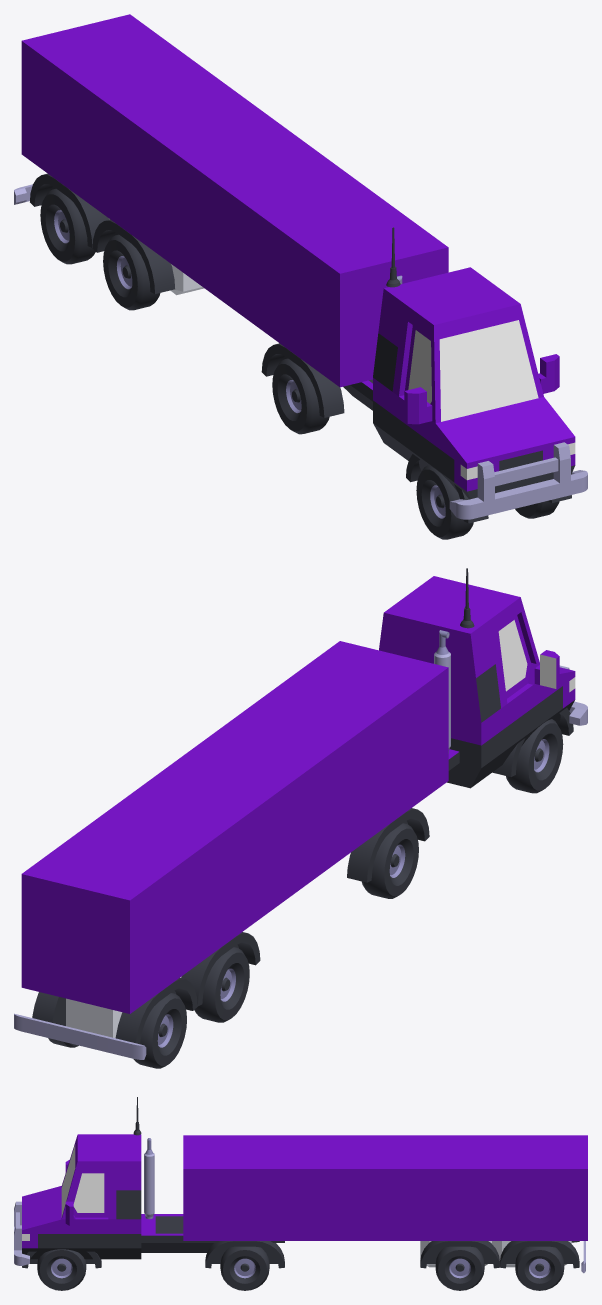
The model's file is Large_Purple_Car.fbx.
3 views of the same model, one above another, from view 1: azimuth 30°, elevation 25°; view 2: azimuth 150°, elevation 25°; view 3: azimuth 270°, elevation 25° (orthographic). The views are drawn at different scales.
Parts seen in each view (by area): view 1: block, body_topVan, wheel_small (×4), body_frontTruckShort, wheel_coverWide (×3), bumper_large, body_standard, detail_mirror (×2); view 2: block, body_topVan, wheel_small (×4), wheel_coverWide (×5), body_standard, bumper, block_bevel, body_frontTruckShort, detail_mirror, detail_exhaustVerticalThin; view 3: block, wheel_small (×4), body_topVan, wheel_coverWide (×4), body_standard, body_frontTruckShort, body_backFlat, detail_exhaustVerticalThin, bumper_large.
Boxes of the visible parts, x1,y1,x2,y2 form: block: (21, 14, 448, 387); body_topVan: (373, 267, 543, 423); wheel_small (×4): (40, 188, 473, 539); body_frontTruckShort: (435, 397, 575, 499); wheel_coverWide (×3): (30, 173, 344, 417); bumper_large: (449, 442, 587, 519); body_standard: (373, 378, 435, 470); detail_mirror (×2): (404, 354, 559, 424); block: (21, 641, 448, 1013); body_topVan: (379, 576, 539, 722); wheel_small (×4): (133, 719, 563, 1068); wheel_coverWide (×5): (32, 708, 573, 1044); body_standard: (447, 683, 543, 788); bumper: (14, 1013, 146, 1059); block_bevel: (66, 998, 122, 1038); body_frontTruckShort: (544, 667, 575, 724); detail_mirror: (534, 650, 559, 688); detail_exhaustVerticalThin: (434, 630, 450, 753); block: (183, 1135, 587, 1240); wheel_small (×4): (37, 1246, 564, 1290); body_topVan: (61, 1134, 141, 1219); wheel_coverWide (×4): (22, 1241, 579, 1268); body_standard: (61, 1217, 141, 1259); body_frontTruckShort: (22, 1186, 61, 1259); body_backFlat: (141, 1214, 284, 1252); detail_exhaustVerticalThin: (144, 1138, 154, 1219); bumper_large: (14, 1201, 29, 1265).
Bounding box in the file's own units: 14 × 23.08 × 72.06.
